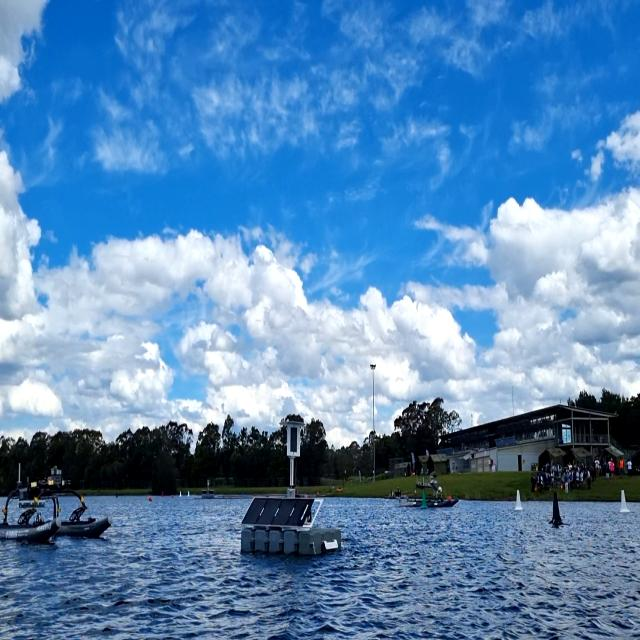led: (288, 425, 299, 455)
